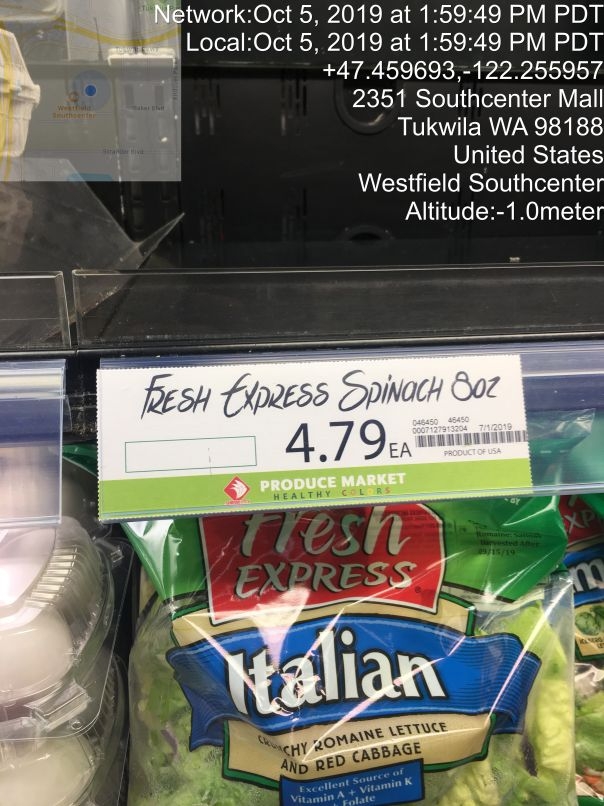Label: (83, 343, 544, 515)
Location: (335, 82, 604, 198)
Time: (146, 1, 604, 58)
Void: (49, 47, 594, 309)
